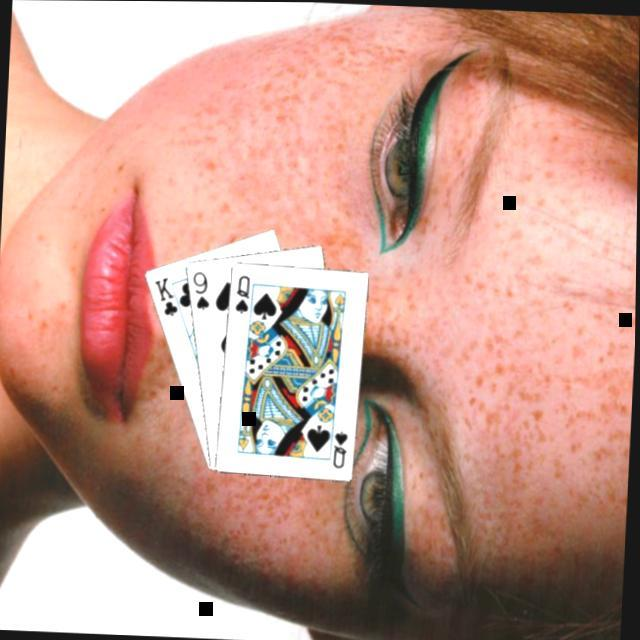9S: (188, 266, 215, 310)
KC: (150, 272, 190, 318)
QS: (232, 270, 255, 315), (330, 426, 352, 469)
